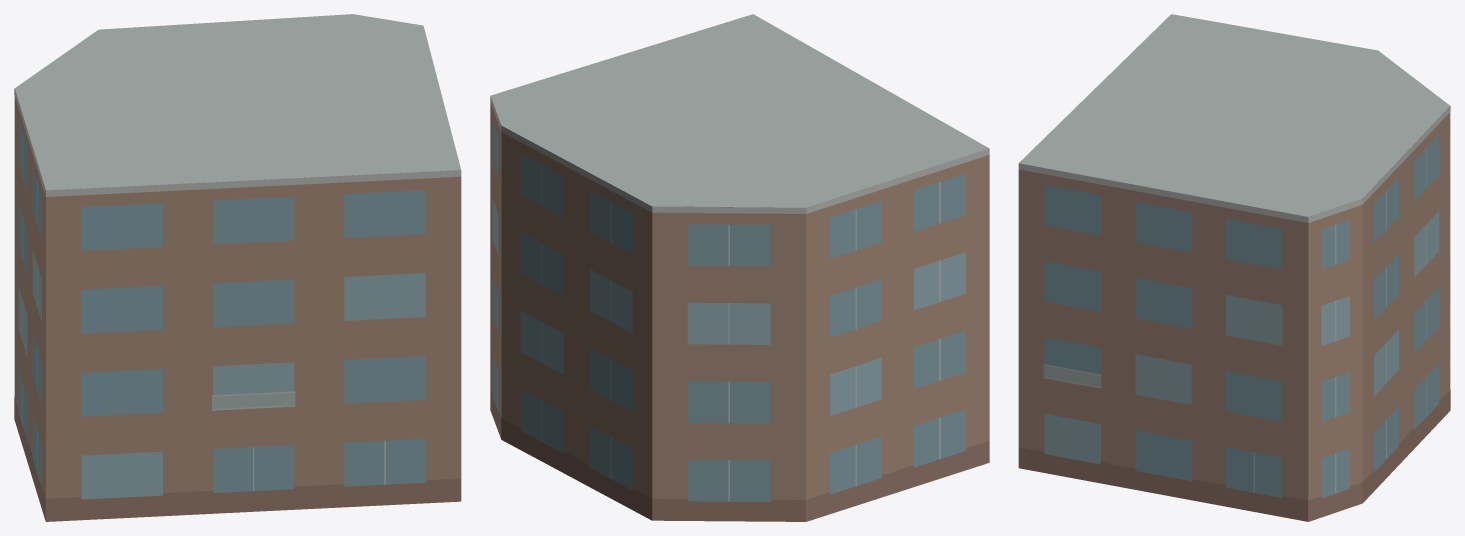
The model's file is survey-upis-32601802.glb.
The picture shows the model from 3 angles, left to right: view 1: azimuth 30°, elevation 25°; view 2: azimuth 150°, elevation 25°; view 3: azimuth 270°, elevation 25°; orthographic projection. The views are drawn at different scales.
Parts seen in each view (by area): view 1: survey-upis-32601802.tmp; view 2: survey-upis-32601802.tmp; view 3: survey-upis-32601802.tmp.
Part boxes in pixels (x1=…): survey-upis-32601802.tmp: x1=14, y1=14, x2=461, y2=521; survey-upis-32601802.tmp: x1=490, y1=14, x2=989, y2=521; survey-upis-32601802.tmp: x1=1018, y1=14, x2=1450, y2=521.
Size of the model in its own units: 17.43 by 12.2 by 15.67.
